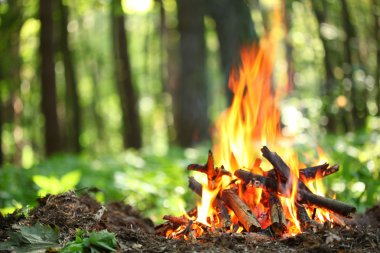fire: (196, 43, 312, 236)
